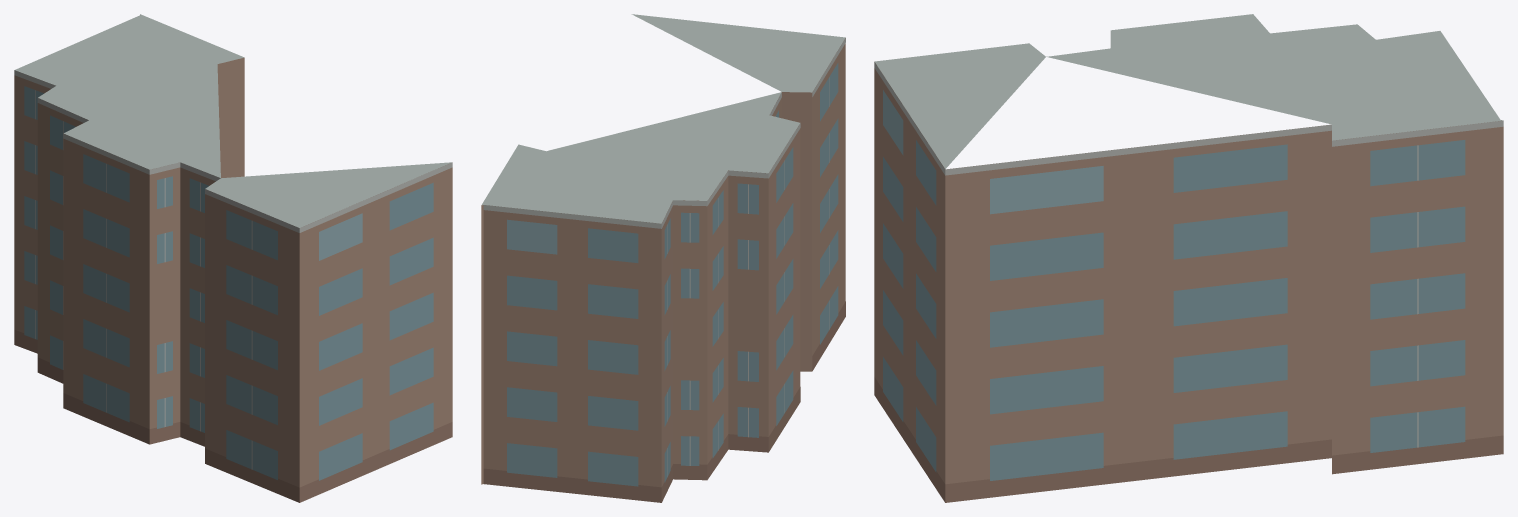
The model's file is survey-upis-32755732.glb.
3 renders of one model, left to right at view 1: azimuth 30°, elevation 25°; view 2: azimuth 150°, elevation 25°; view 3: azimuth 270°, elevation 25°, orthographic. The views are drawn at different scales.
Visible parts, largest first — view 1: survey-upis-32755732.tmp; view 2: survey-upis-32755732.tmp; view 3: survey-upis-32755732.tmp.
Part boxes in pixels (box(x1,y1,x2,y2)): survey-upis-32755732.tmp: box(14, 14, 452, 502); survey-upis-32755732.tmp: box(481, 14, 845, 502); survey-upis-32755732.tmp: box(874, 14, 1503, 502).
Bounding box in the file's own units: 13.09 × 13.1 × 22.41.
